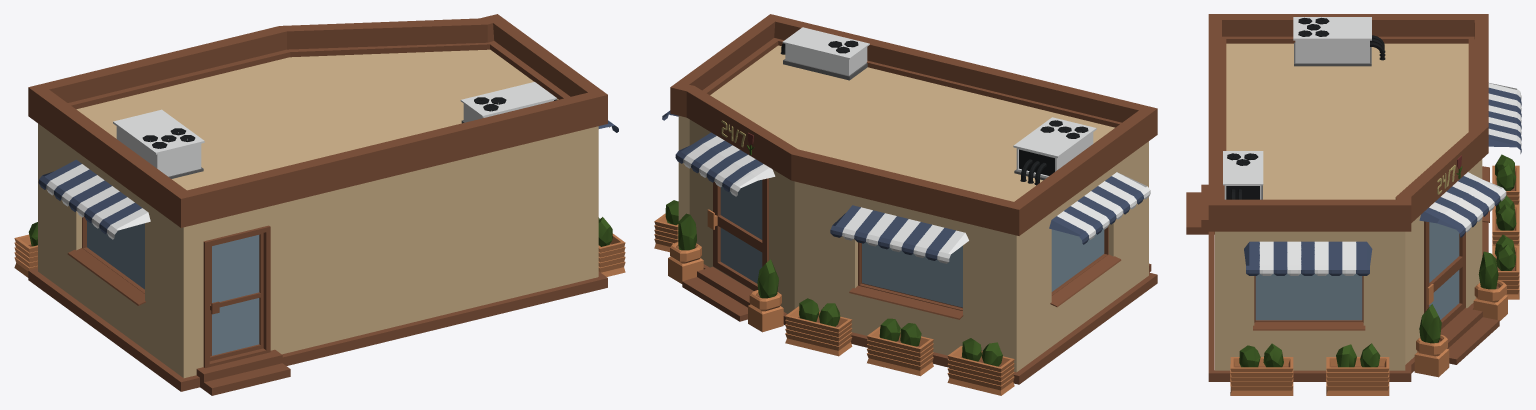
Rendered from flower shop.fbx.
3 views of the same model, side by side, from view 1: azimuth 30°, elevation 25°; view 2: azimuth 150°, elevation 25°; view 3: azimuth 270°, elevation 25° (orthographic). The views are drawn at different scales.
Parts seen in each view (by area): view 1: flower shop; view 2: flower shop; view 3: flower shop.
Boxes of the visible parts, left/top/right/bottom form: flower shop: left=14, top=14, right=625, bottom=395; flower shop: left=654, top=14, right=1157, bottom=395; flower shop: left=1186, top=14, right=1521, bottom=395.
Size of the model in its own units: 1396 by 550 by 903.
